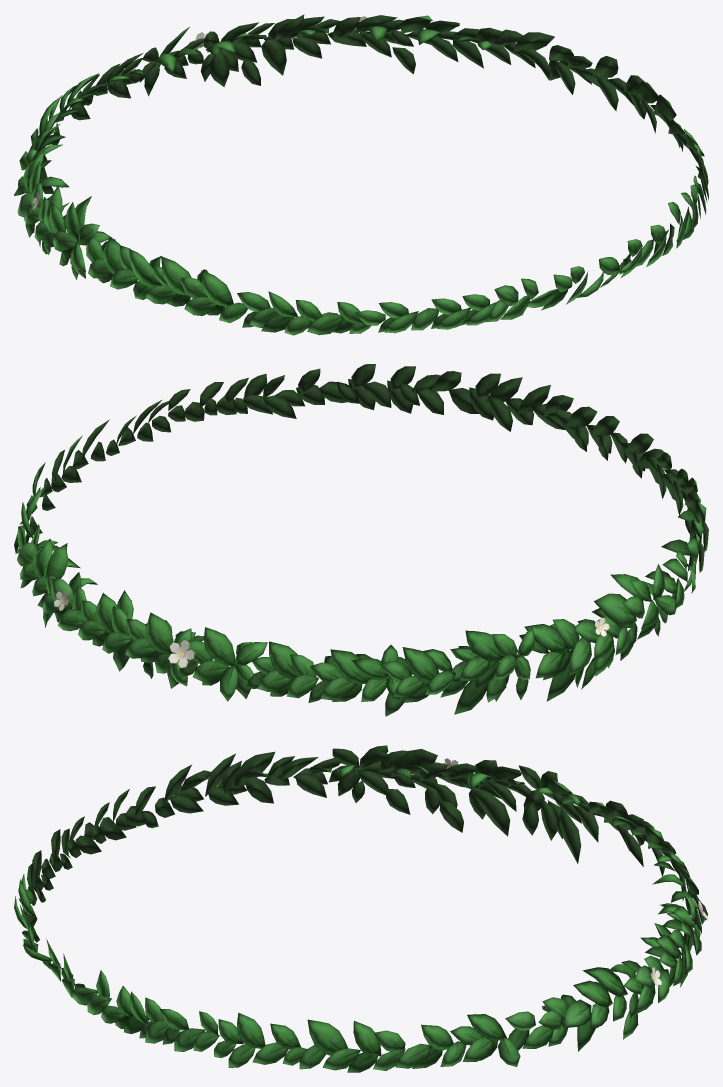
Rendered from ring_11_0.FBX.
3 views of the same model, one above another, from view 1: azimuth 30°, elevation 25°; view 2: azimuth 150°, elevation 25°; view 3: azimuth 270°, elevation 25° (orthographic).
Visible parts, largest first — view 1: 2; view 2: 2, 1; view 3: 2.
Boxes of the visible parts, bbox=[...] form: 2: bbox=[14, 14, 708, 335]; 2: bbox=[14, 364, 708, 716]; 1: bbox=[54, 591, 609, 668]; 2: bbox=[14, 745, 707, 1072].
Size of the model in its own units: 5.6 by 0.7581 by 5.72.
